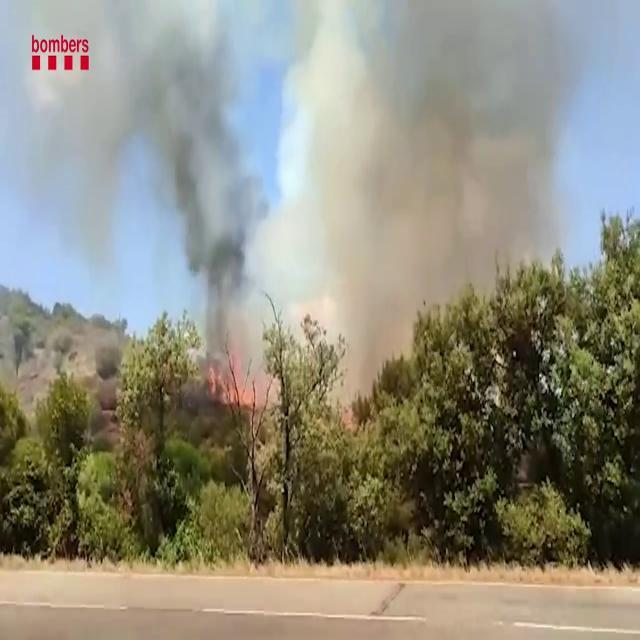Fire: (204, 339, 254, 416)
Smoke: (280, 1, 582, 353), (11, 1, 268, 378)
